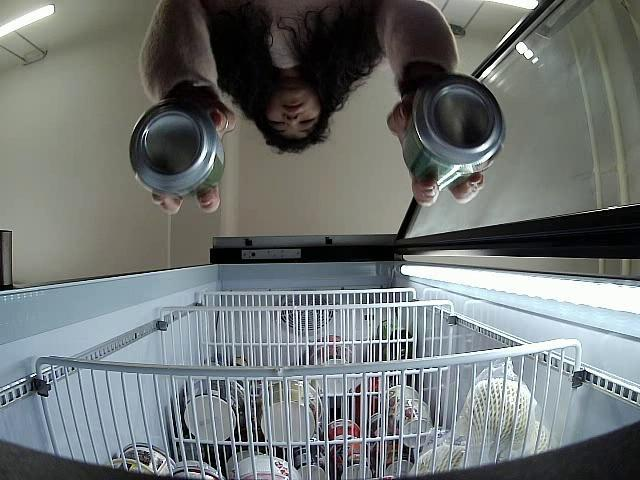12_chilsungCider: (402, 73, 507, 188), (127, 106, 226, 196)
